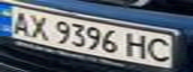3: (66, 20, 87, 48)
6: (100, 27, 124, 54)
9: (48, 17, 72, 45), (84, 24, 103, 52)
A: (6, 8, 33, 36)
C: (145, 35, 178, 63)
H: (124, 30, 151, 60)
X: (24, 12, 54, 42)
